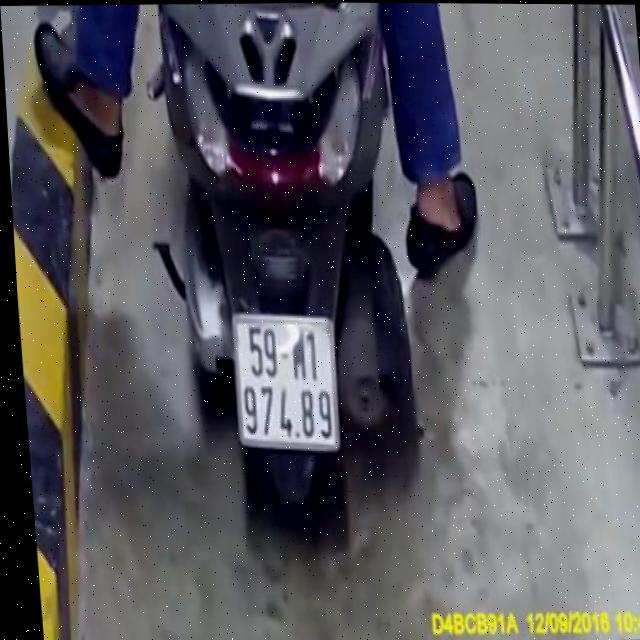motorcycle: (138, 1, 439, 543)
plate: (227, 310, 346, 454)
